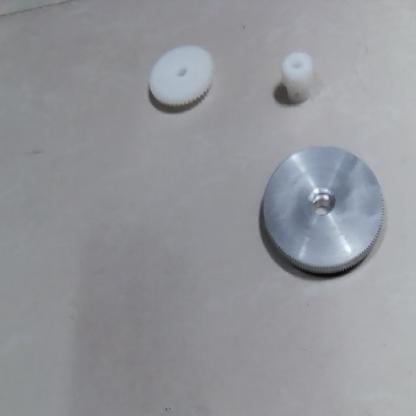FOD: (260, 142, 389, 280), (144, 43, 218, 113), (281, 51, 315, 108)
